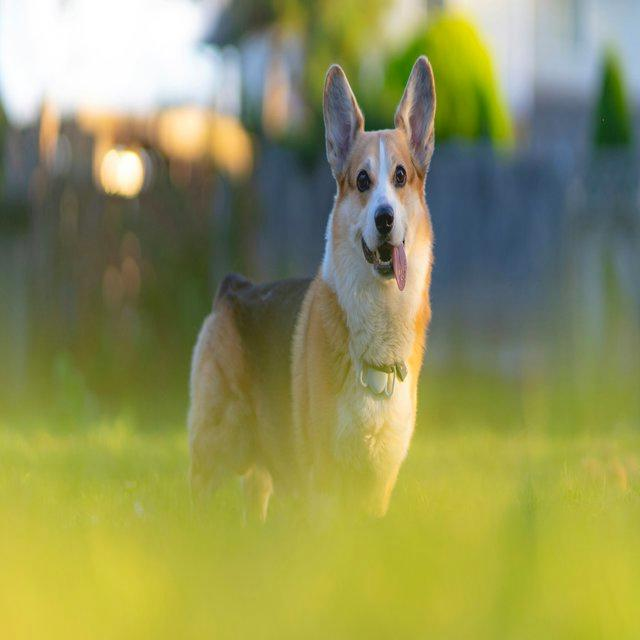corgi: (187, 53, 439, 528)
